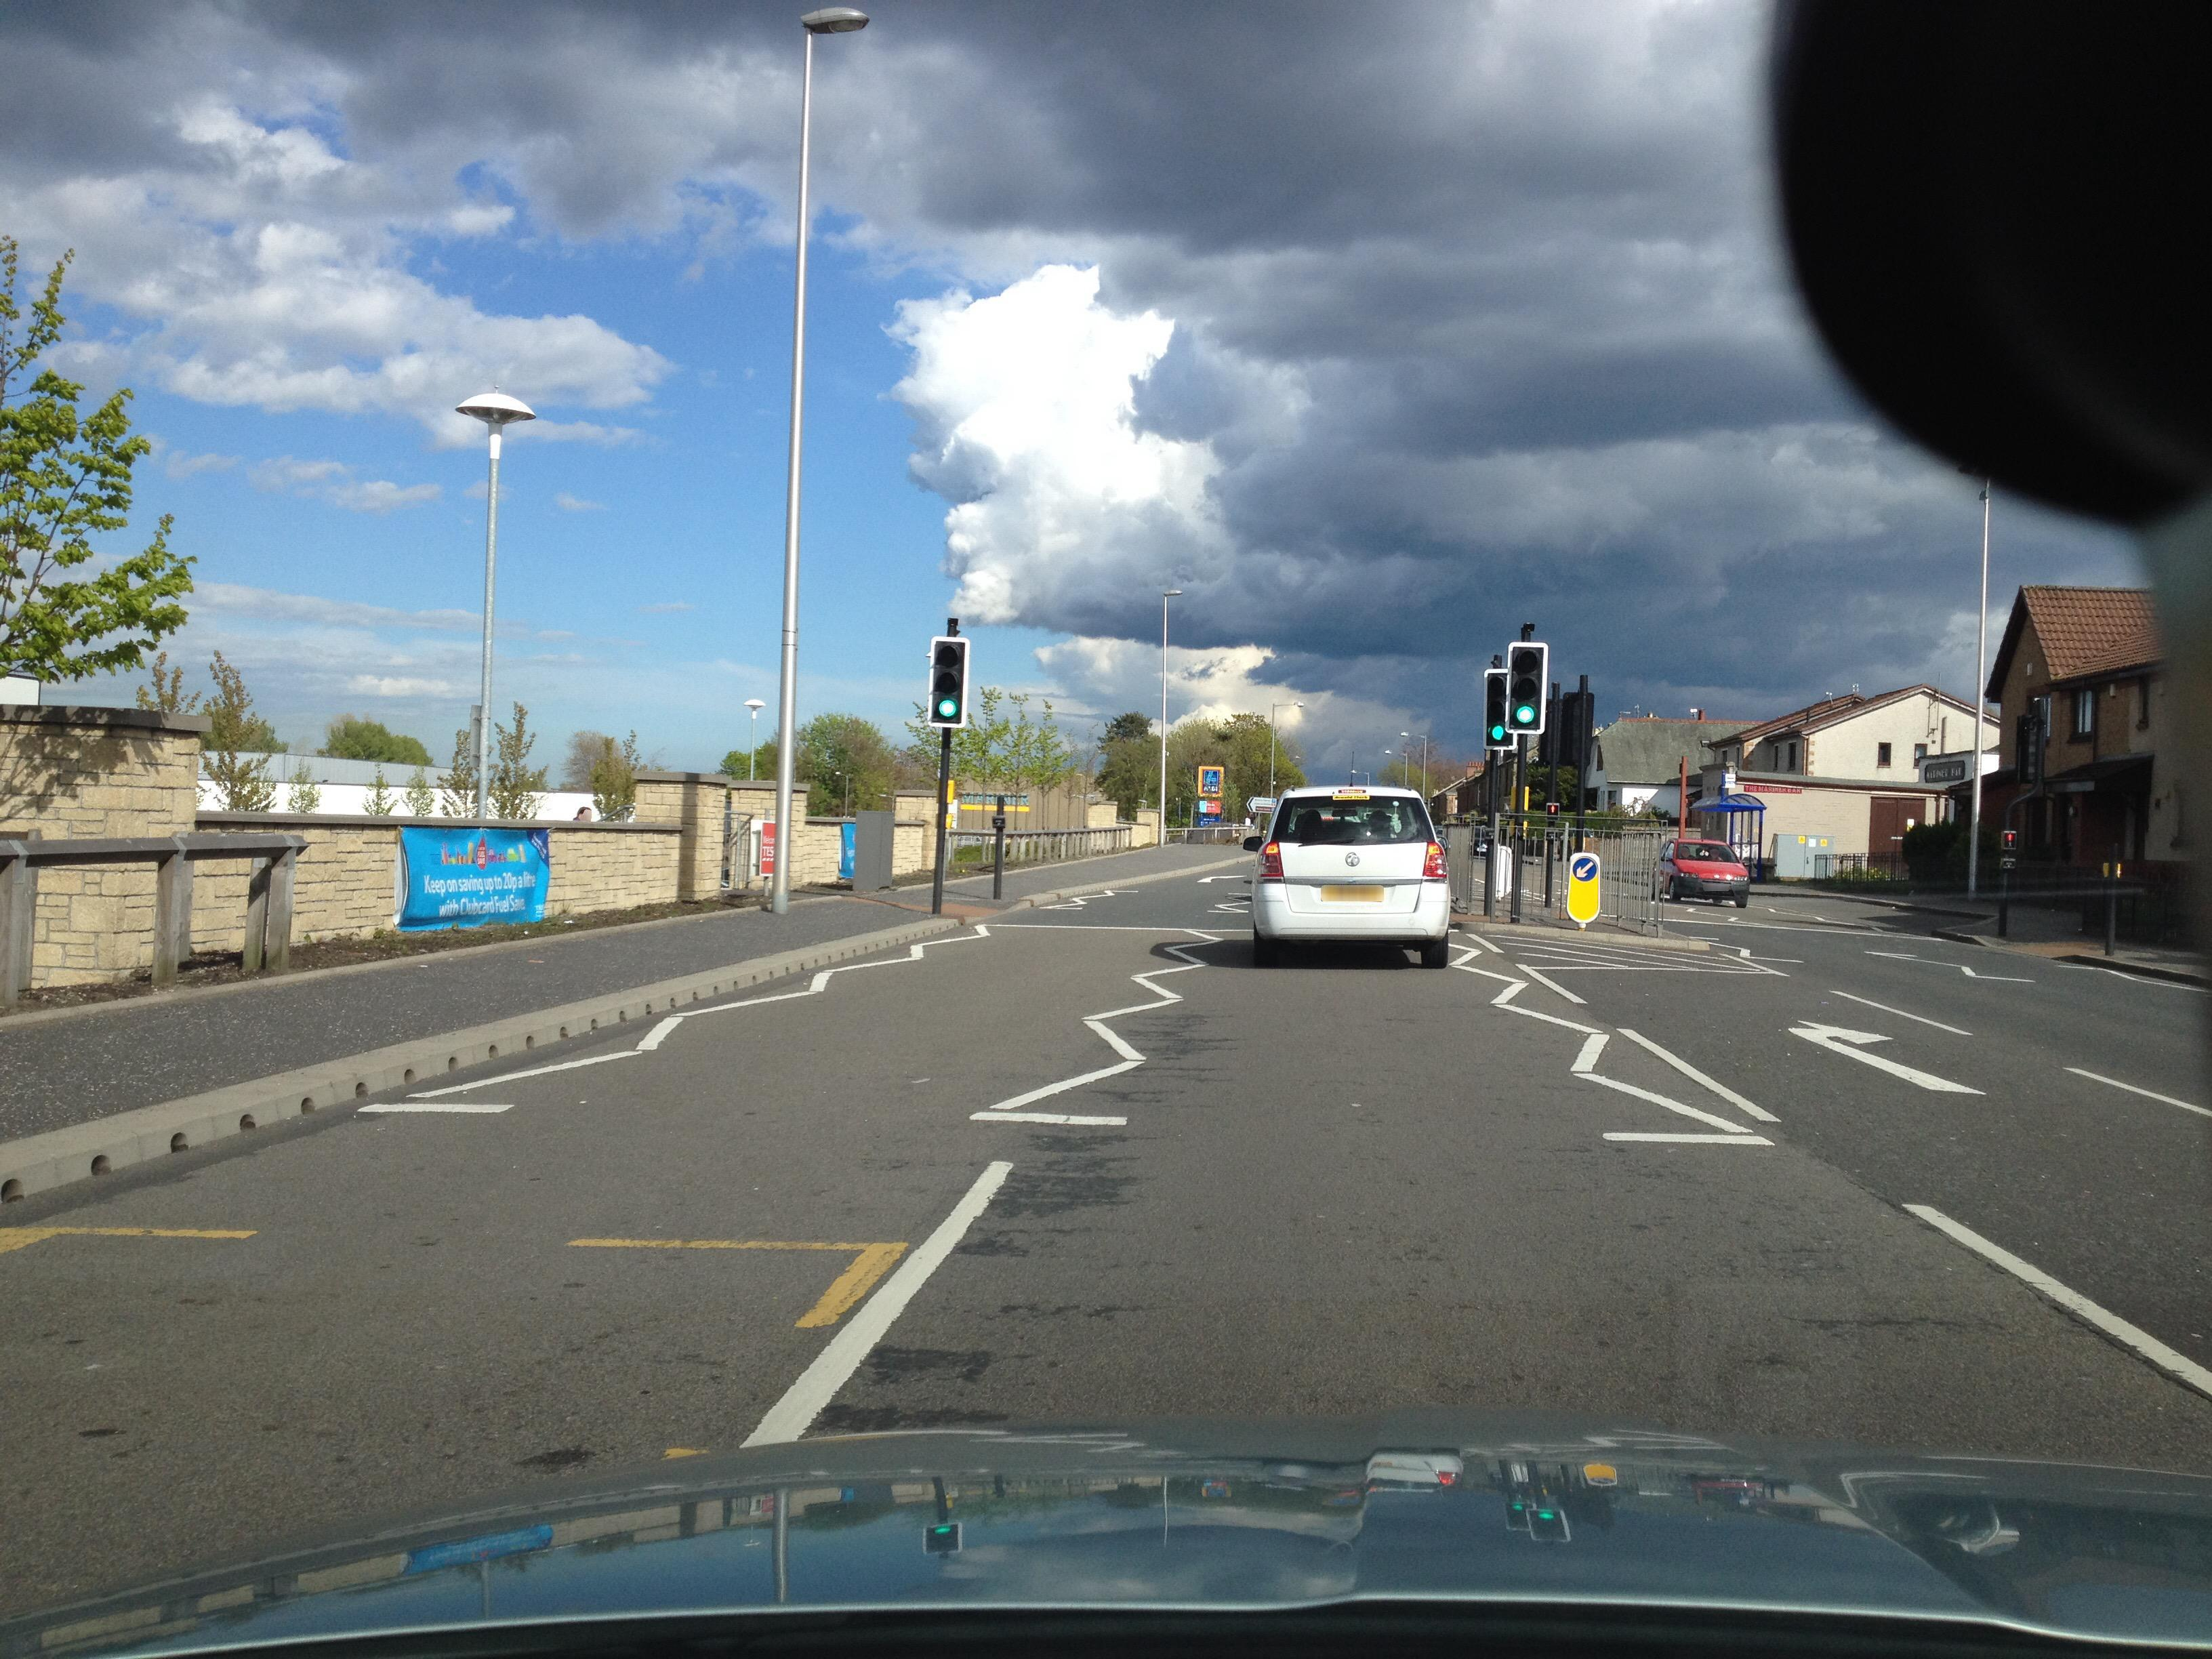vinyl banner: (388, 788, 566, 936)
